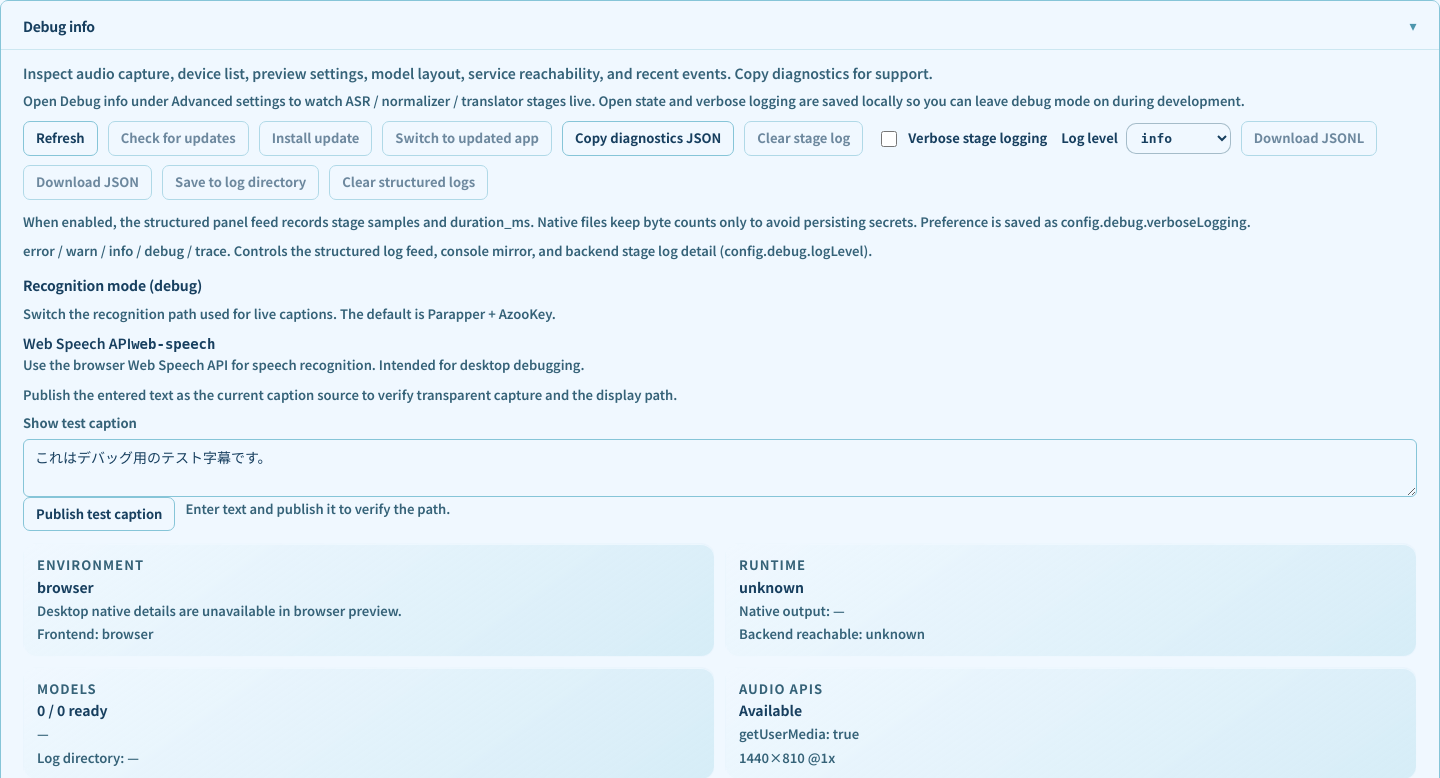
Scenario: DebugPanel recognition mode and test captions › shows an error when publishing the test caption fails
This screenshot has width=1440, height=778.
Click the button with test id "debug-test-caption-publish".
click(99, 514)  # box [23,496,175,531]
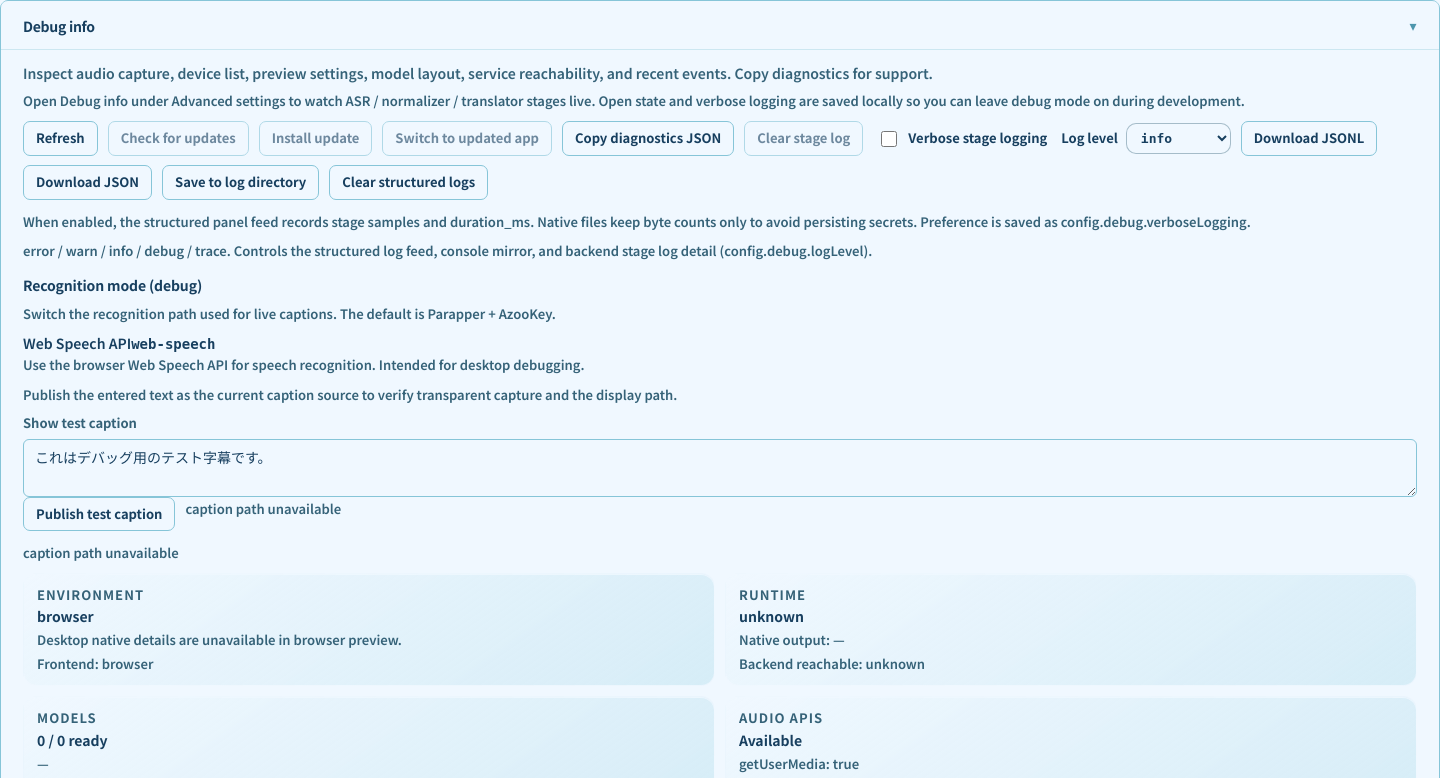
Result: the message with test id "debug-test-caption-error" reads "caption path unavailable" at [23,543,179,562]
